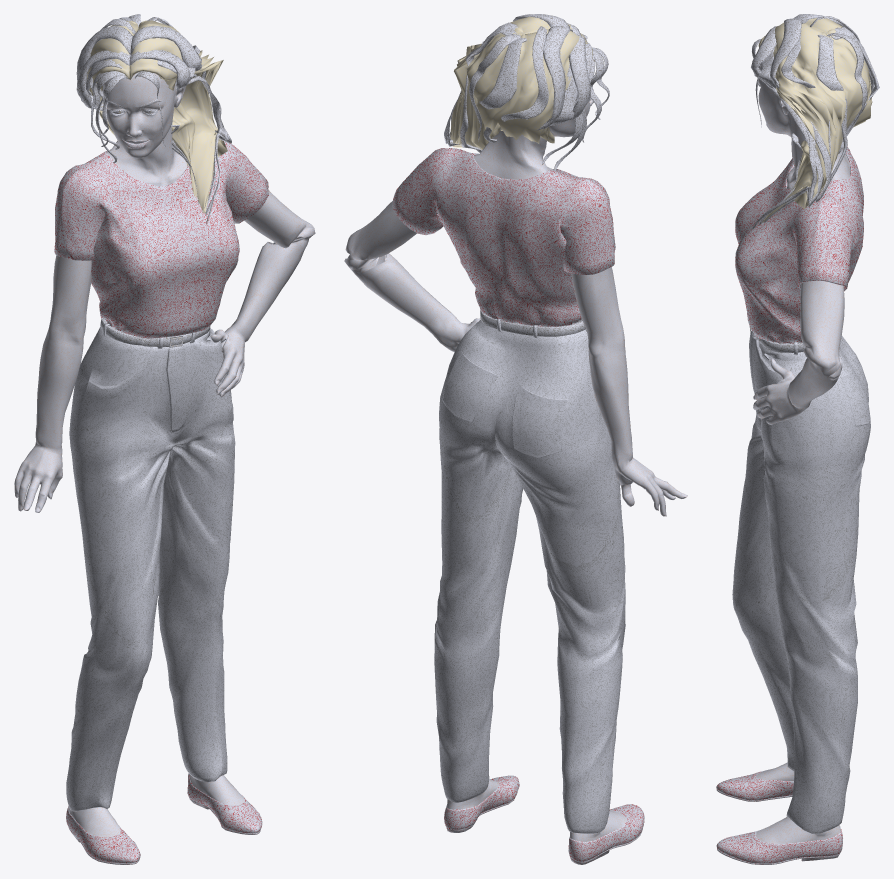
Rendered from female.dae.
3 views of the same model, side by side, from view 1: azimuth 30°, elevation 25°; view 2: azimuth 150°, elevation 25°; view 3: azimuth 270°, elevation 25° (orthographic). The views are drawn at different scales.
Visible parts, largest first — view 1: instance_1, instance_1_008, instance_1_025, instance_1_031, instance_0, instance_1_009, instance_1_038, instance_1_041, instance_0_004, instance_0_011, instance_1_037, instance_0_003 (+4 smaller); view 2: instance_1, instance_1_008, instance_1_025, instance_0, instance_1_031, instance_1_009, instance_1_038, instance_1_041, instance_0_006, instance_0_005, instance_0_010, instance_0_003 (+3 smaller); view 3: instance_1, instance_1_008, instance_0, instance_1_031, instance_1_041, instance_1_009, instance_1_038, instance_0_011, instance_0_004, instance_0_007, instance_1_040, instance_0_002 (+5 smaller).
Boxes of the visible parts, bbox=[...] form: instance_1: bbox=[66, 327, 235, 811]; instance_1_008: bbox=[54, 141, 268, 338]; instance_1_025: bbox=[14, 255, 91, 512]; instance_1_031: bbox=[211, 190, 315, 396]; instance_0: bbox=[87, 20, 227, 213]; instance_1_009: bbox=[102, 72, 187, 186]; instance_1_038: bbox=[66, 806, 140, 863]; instance_1_041: bbox=[187, 773, 262, 833]; instance_0_004: bbox=[129, 50, 231, 216]; instance_0_011: bbox=[130, 25, 215, 209]; instance_1_037: bbox=[68, 807, 120, 837]; instance_0_003: bbox=[76, 50, 196, 181]; instance_1: bbox=[434, 320, 625, 833]; instance_1_008: bbox=[392, 148, 615, 326]; instance_1_025: bbox=[571, 267, 685, 516]; instance_0: bbox=[450, 16, 592, 149]; instance_1_031: bbox=[344, 201, 480, 352]; instance_1_009: bbox=[473, 97, 593, 179]; instance_1_038: bbox=[568, 804, 644, 861]; instance_1_041: bbox=[444, 775, 519, 829]; instance_0_006: bbox=[477, 38, 526, 142]; instance_0_005: bbox=[536, 26, 572, 130]; instance_0_010: bbox=[501, 26, 548, 121]; instance_0_003: bbox=[568, 34, 590, 119]; instance_1: bbox=[732, 331, 870, 833]; instance_1_008: bbox=[735, 145, 863, 343]; instance_0: bbox=[758, 18, 872, 222]; instance_1_031: bbox=[753, 280, 844, 424]; instance_1_041: bbox=[716, 829, 842, 863]; instance_1_009: bbox=[758, 63, 850, 189]; instance_1_038: bbox=[716, 771, 793, 800]; instance_0_011: bbox=[763, 18, 831, 222]; instance_0_004: bbox=[751, 26, 823, 225]; instance_0_007: bbox=[777, 34, 847, 213]; instance_1_040: bbox=[756, 817, 841, 844]; instance_0_002: bbox=[752, 48, 816, 229].
Bounding box in the file's own units: 0.6745 × 0.3068 × 1.66.
